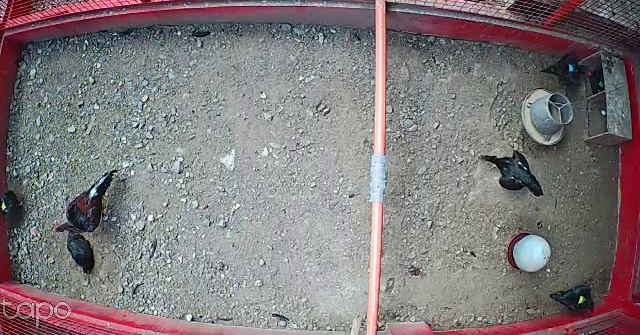Chicken: (474, 136, 545, 197), (545, 281, 600, 319), (63, 230, 105, 276), (540, 54, 595, 89)
Rooster: (54, 164, 123, 236)
Saddle_Color_Blue: (568, 64, 575, 73)
Saddle_Color_YellowGreen: (577, 295, 586, 305)
